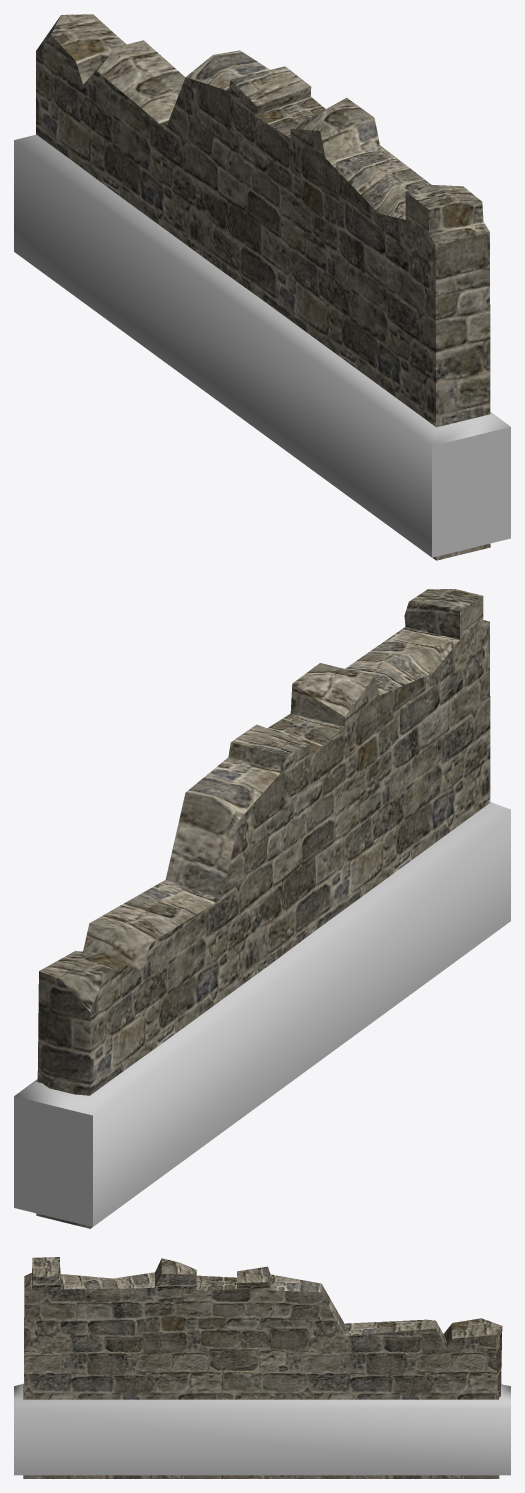
Rendered from SM_EN_2005_qiang02.FBX.
3 renders of one model, top to bottom at view 1: azimuth 30°, elevation 25°; view 2: azimuth 150°, elevation 25°; view 3: azimuth 270°, elevation 25°, orthographic. The views are drawn at different scales.
Visible parts, largest first — view 1: SM_EN_2005_qiang02b, SM_EN_2005_qiang02a; view 2: SM_EN_2005_qiang02b, SM_EN_2005_qiang02a; view 3: SM_EN_2005_qiang02b, SM_EN_2005_qiang02a.
Part boxes in pixels (bbox=[...]): SM_EN_2005_qiang02b: bbox=[36, 14, 490, 560]; SM_EN_2005_qiang02a: bbox=[14, 134, 510, 557]; SM_EN_2005_qiang02b: bbox=[36, 589, 490, 1228]; SM_EN_2005_qiang02a: bbox=[14, 802, 510, 1226]; SM_EN_2005_qiang02b: bbox=[23, 1257, 502, 1478]; SM_EN_2005_qiang02a: bbox=[14, 1383, 510, 1475].
Bounding box in the file's own units: 22.69 × 96.34 × 208.
